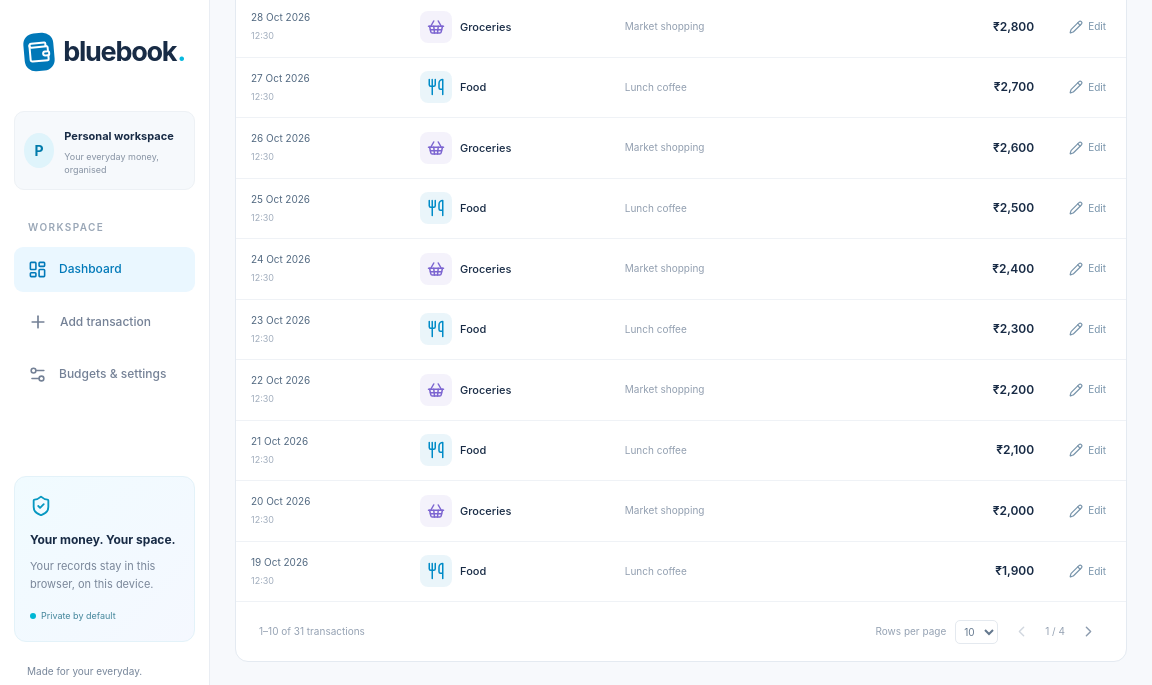
Test case: application flows › filters and paginates the list without changing full-month spending
(page scrolled)
Expected: the text "1–10 of 31 transactions" is shown, x1=259 y1=624 x2=365 y2=639
Step 1. Click the button named "Next page" → coordinates (1088, 632), box x1=1074 y1=617 x2=1103 y2=646
(page scrolled)
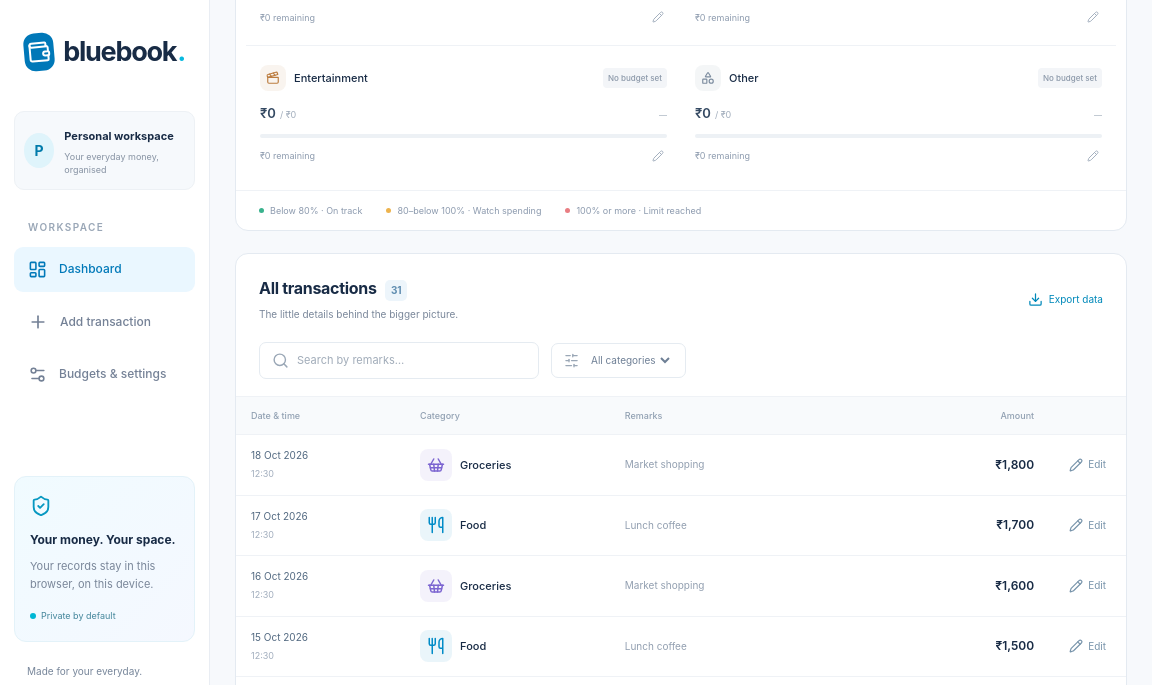
Step 2. Type "Market" into the field labelled "Search by remarks" → coordinates (412, 360), box x1=297 y1=352 x2=526 y2=368
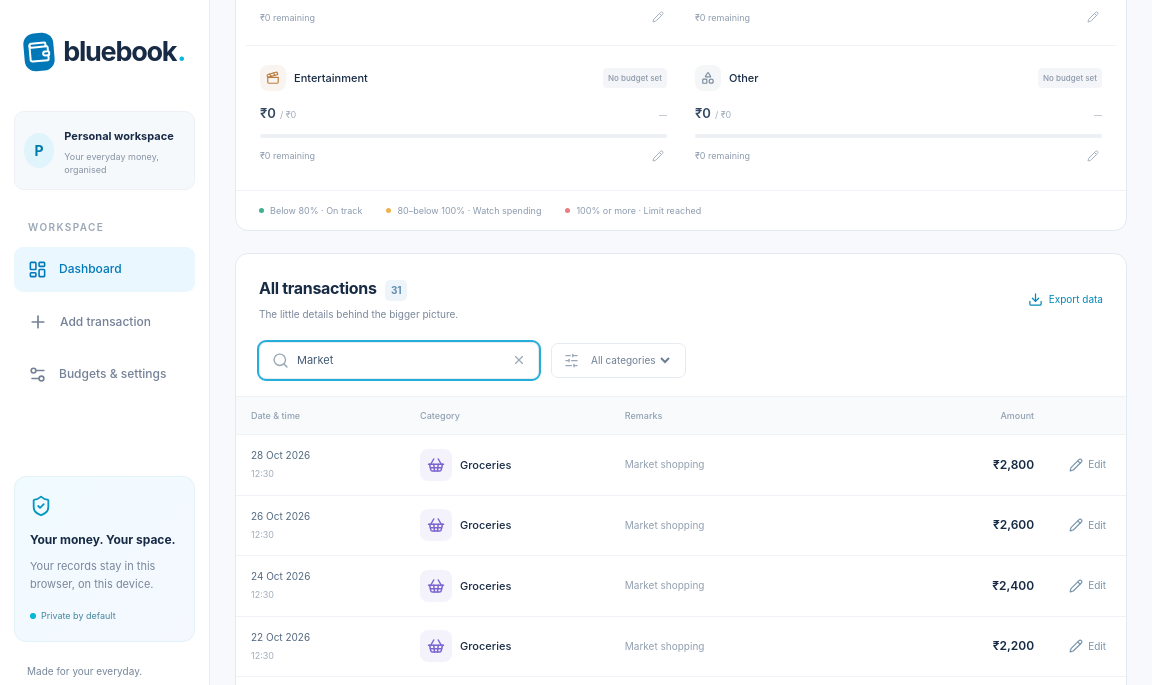
Step 3. Select "Food" in the dropdown named "Filter category" → coordinates (630, 360), box x1=587 y1=353 x2=673 y2=367
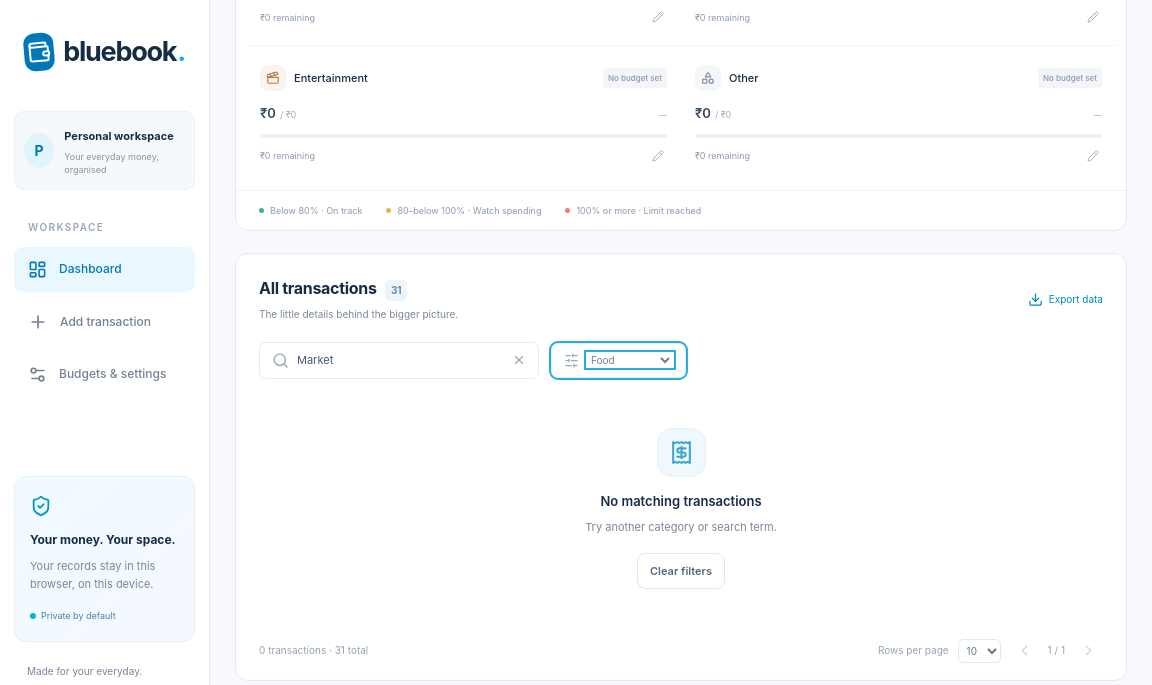
Expected: the heading "No matching transactions" is shown, x1=600 y1=492 x2=762 y2=511
Step 4. Click the button "Clear filters" → coordinates (681, 571), box x1=637 y1=553 x2=725 y2=589
(page scrolled)
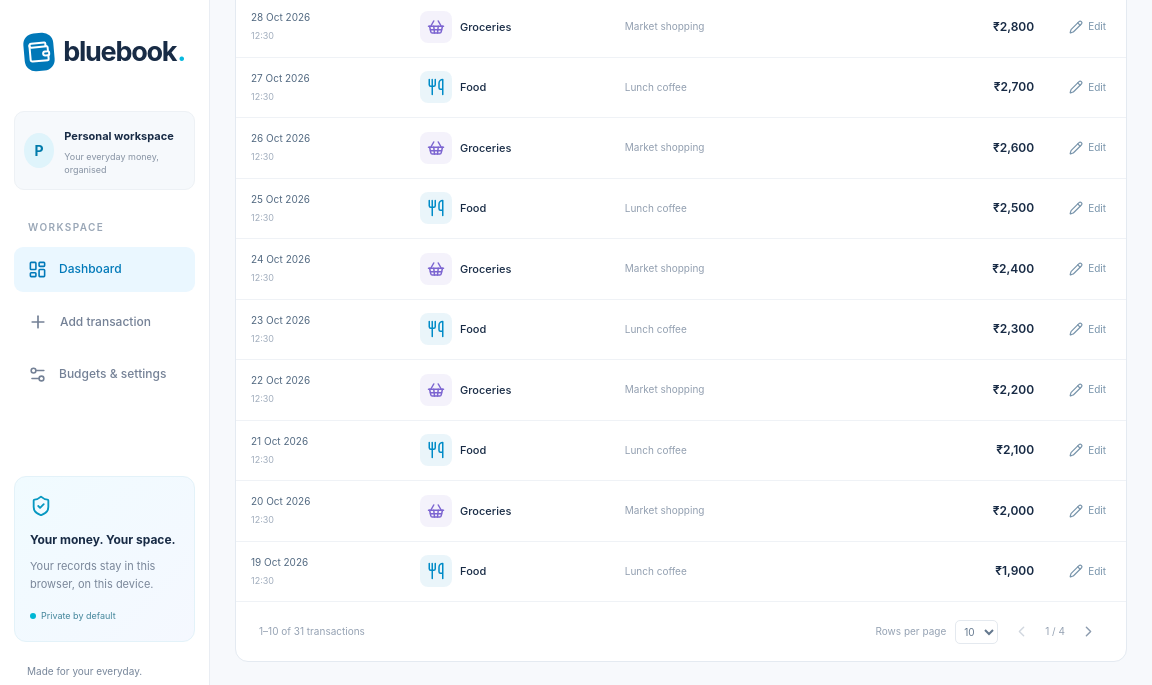
Step 5. Select "25" in the dropdown labelled "Rows per page" → coordinates (977, 632), box x1=955 y1=620 x2=998 y2=644
(page scrolled)
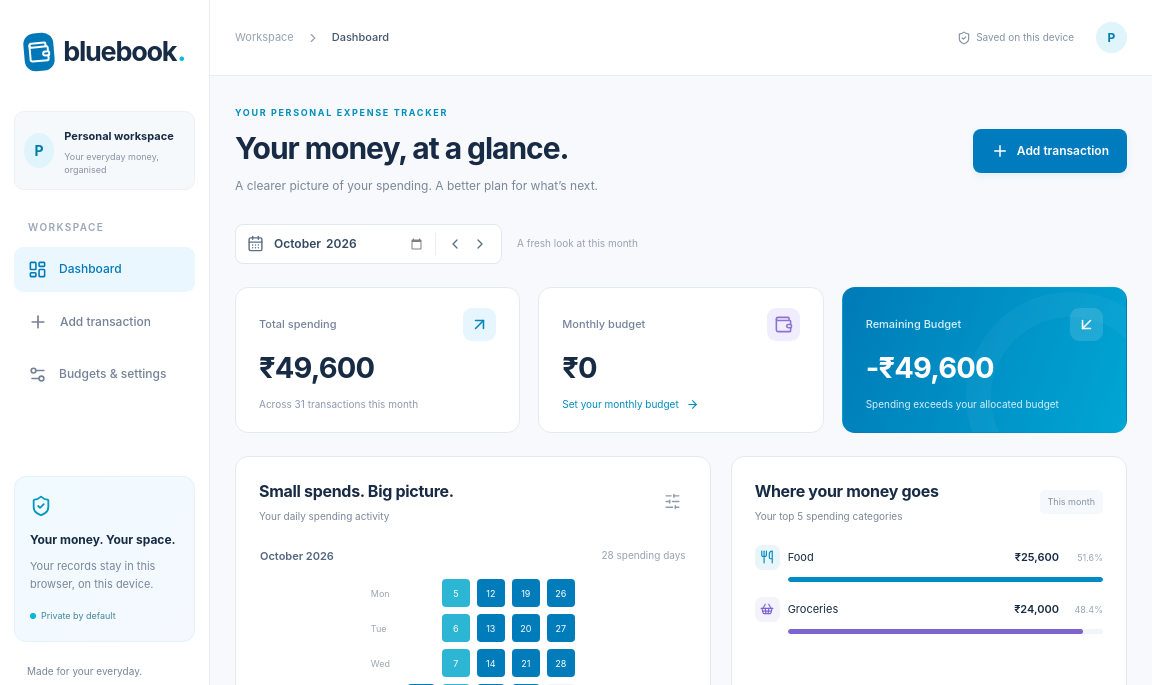
Step 6. Replace the text in the field named "Selected month and year" with "2020-01" → coordinates (350, 244), box x1=273 y1=235 x2=426 y2=253
(page scrolled)
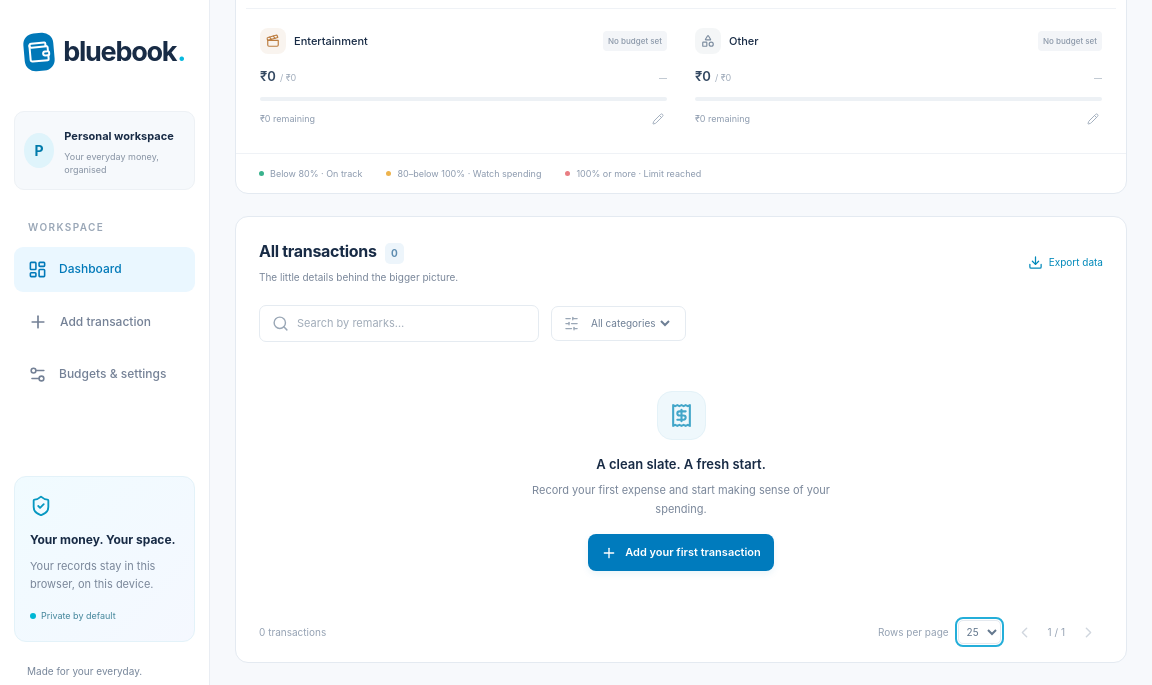
Expected: the text "0 transactions" is shown, x1=259 y1=625 x2=326 y2=640
